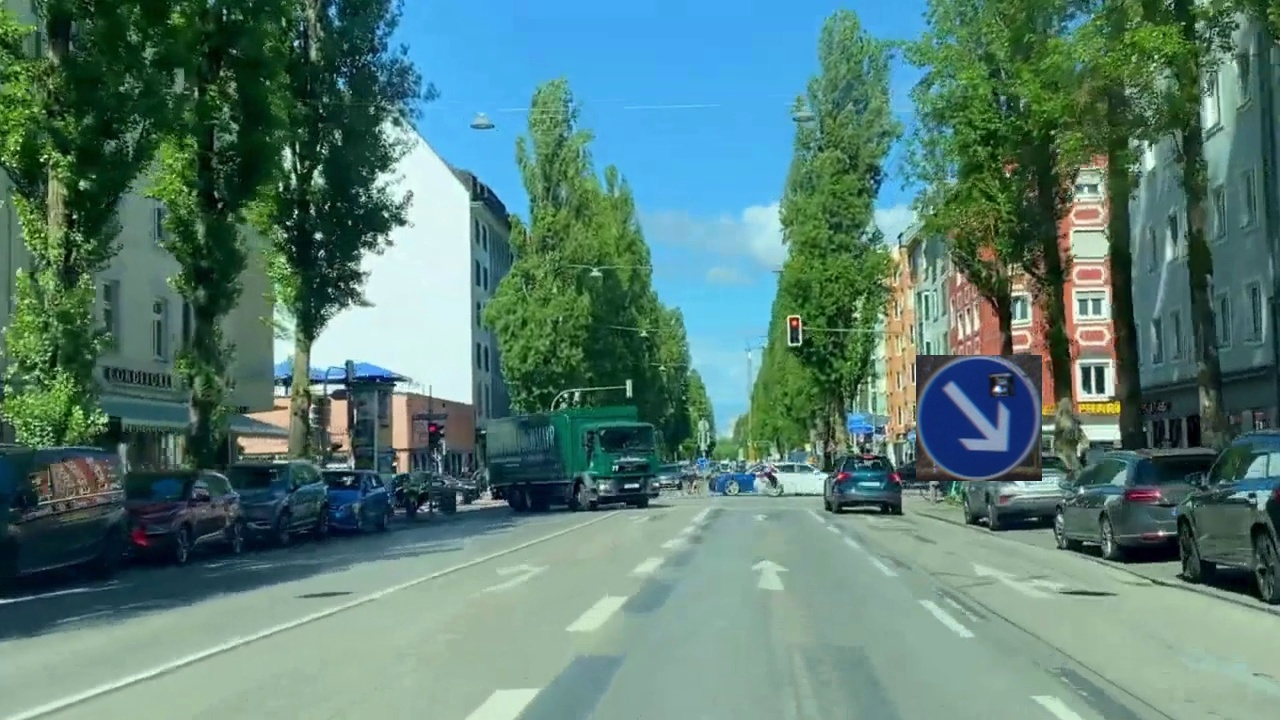Keep right: (916, 355, 1042, 481)
